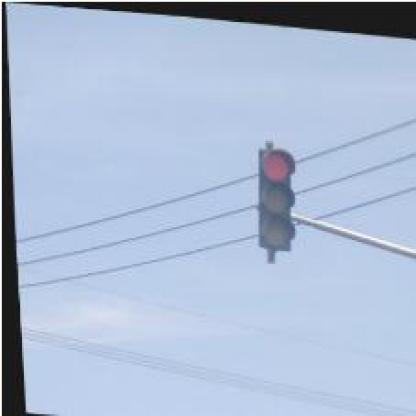red: (248, 140, 298, 249)
